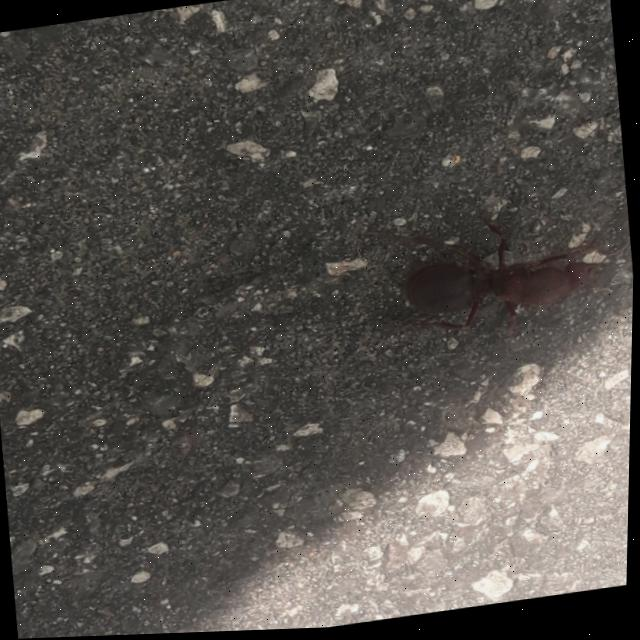Alive-Female-Dealate: (360, 185, 636, 362)
